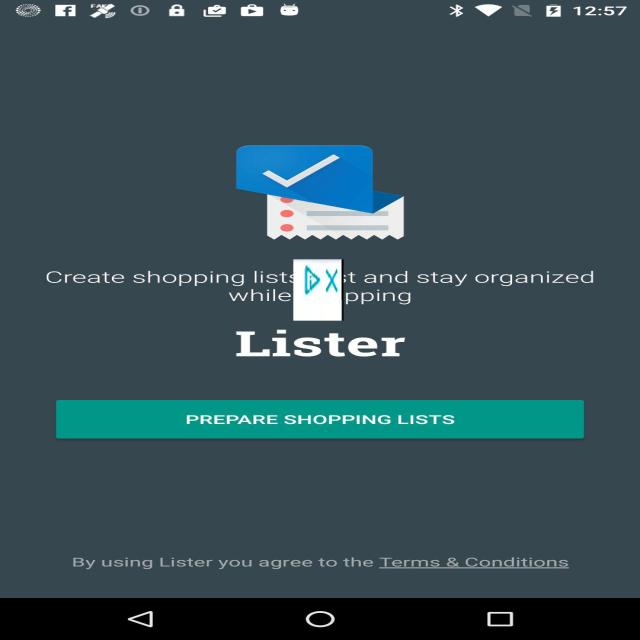sneaking: (293, 259, 344, 321)
